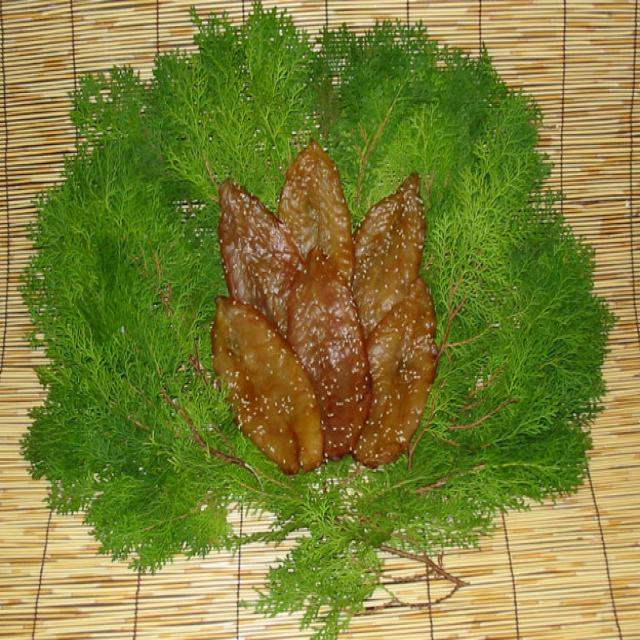熟制海鲜: (206, 134, 438, 472)
